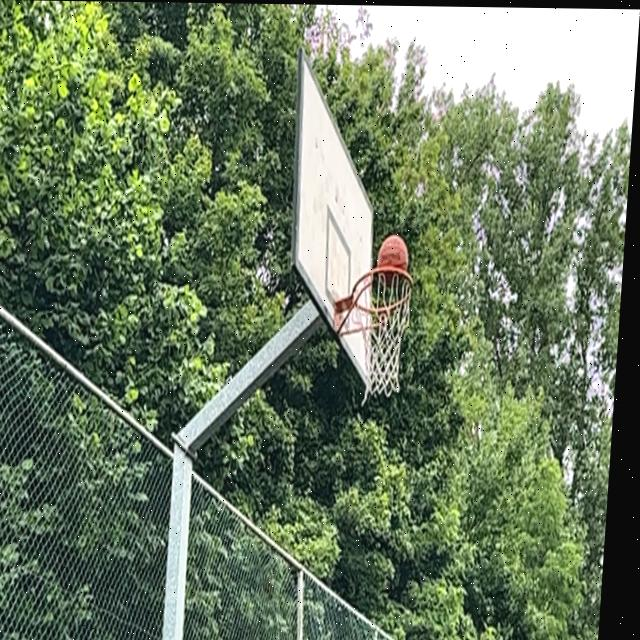rebound_hit: (375, 235, 410, 289)
